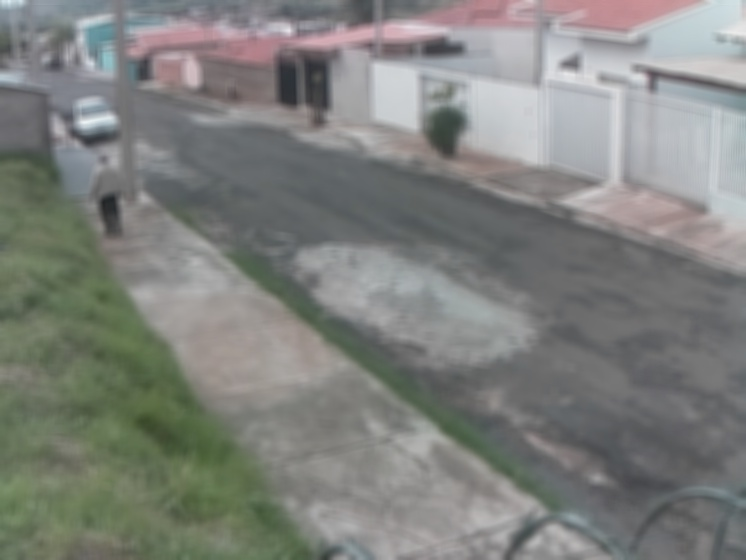person: (88, 150, 133, 239)
